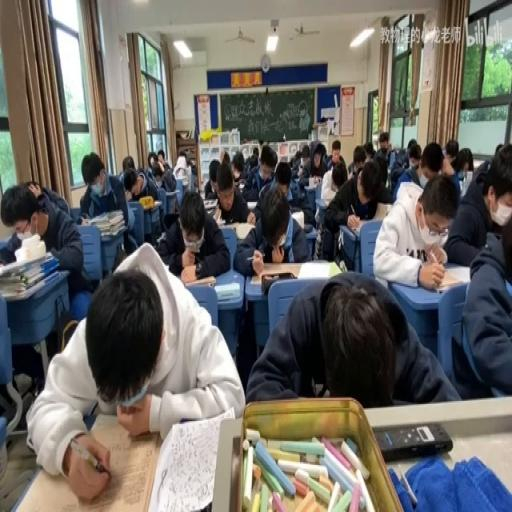calculator: (140, 199, 166, 240), (348, 215, 389, 239), (298, 260, 342, 280), (428, 268, 467, 290), (214, 282, 240, 300), (182, 273, 214, 286), (232, 222, 255, 240), (314, 195, 327, 219), (290, 209, 304, 229), (203, 196, 218, 209), (306, 175, 318, 188), (304, 222, 316, 235), (213, 206, 222, 222), (178, 175, 190, 186), (219, 222, 235, 230), (338, 258, 347, 272), (155, 232, 165, 243), (456, 170, 466, 180), (246, 201, 258, 209), (150, 198, 162, 206)
paper: (30, 240, 244, 501), (246, 270, 458, 403), (0, 179, 90, 303), (373, 170, 457, 288), (443, 145, 511, 269), (234, 183, 310, 276), (157, 188, 228, 278), (80, 152, 131, 258), (244, 142, 279, 202), (299, 139, 332, 185), (387, 141, 414, 196), (123, 165, 156, 202), (202, 157, 221, 199), (374, 131, 392, 165), (470, 150, 490, 180), (288, 176, 307, 206), (229, 151, 245, 186), (274, 160, 290, 190), (332, 162, 346, 189), (444, 138, 458, 164), (160, 169, 174, 192), (330, 142, 341, 168), (362, 139, 374, 161), (147, 152, 159, 174), (187, 161, 197, 186), (26, 181, 40, 196), (218, 148, 230, 165), (290, 148, 300, 168), (406, 136, 417, 154), (122, 154, 134, 170), (354, 158, 364, 175), (248, 151, 258, 166), (300, 144, 309, 160), (322, 155, 332, 169), (494, 144, 504, 155), (157, 150, 164, 164)
person: (374, 422, 452, 461), (261, 272, 296, 294), (194, 263, 202, 277)
